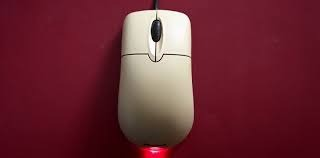mouse: (120, 8, 202, 150)
